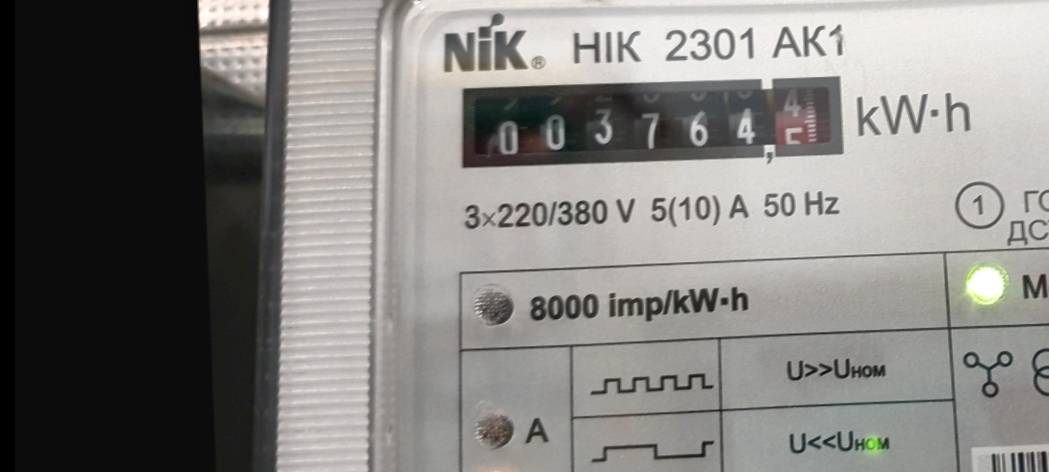0: (496, 119, 521, 158), (544, 113, 567, 154)
3: (591, 108, 615, 148)
4: (736, 108, 757, 148), (781, 88, 804, 121)
5: (783, 126, 805, 149)
6: (688, 110, 710, 150)
7: (639, 110, 664, 153)
screen: (445, 60, 860, 185)
